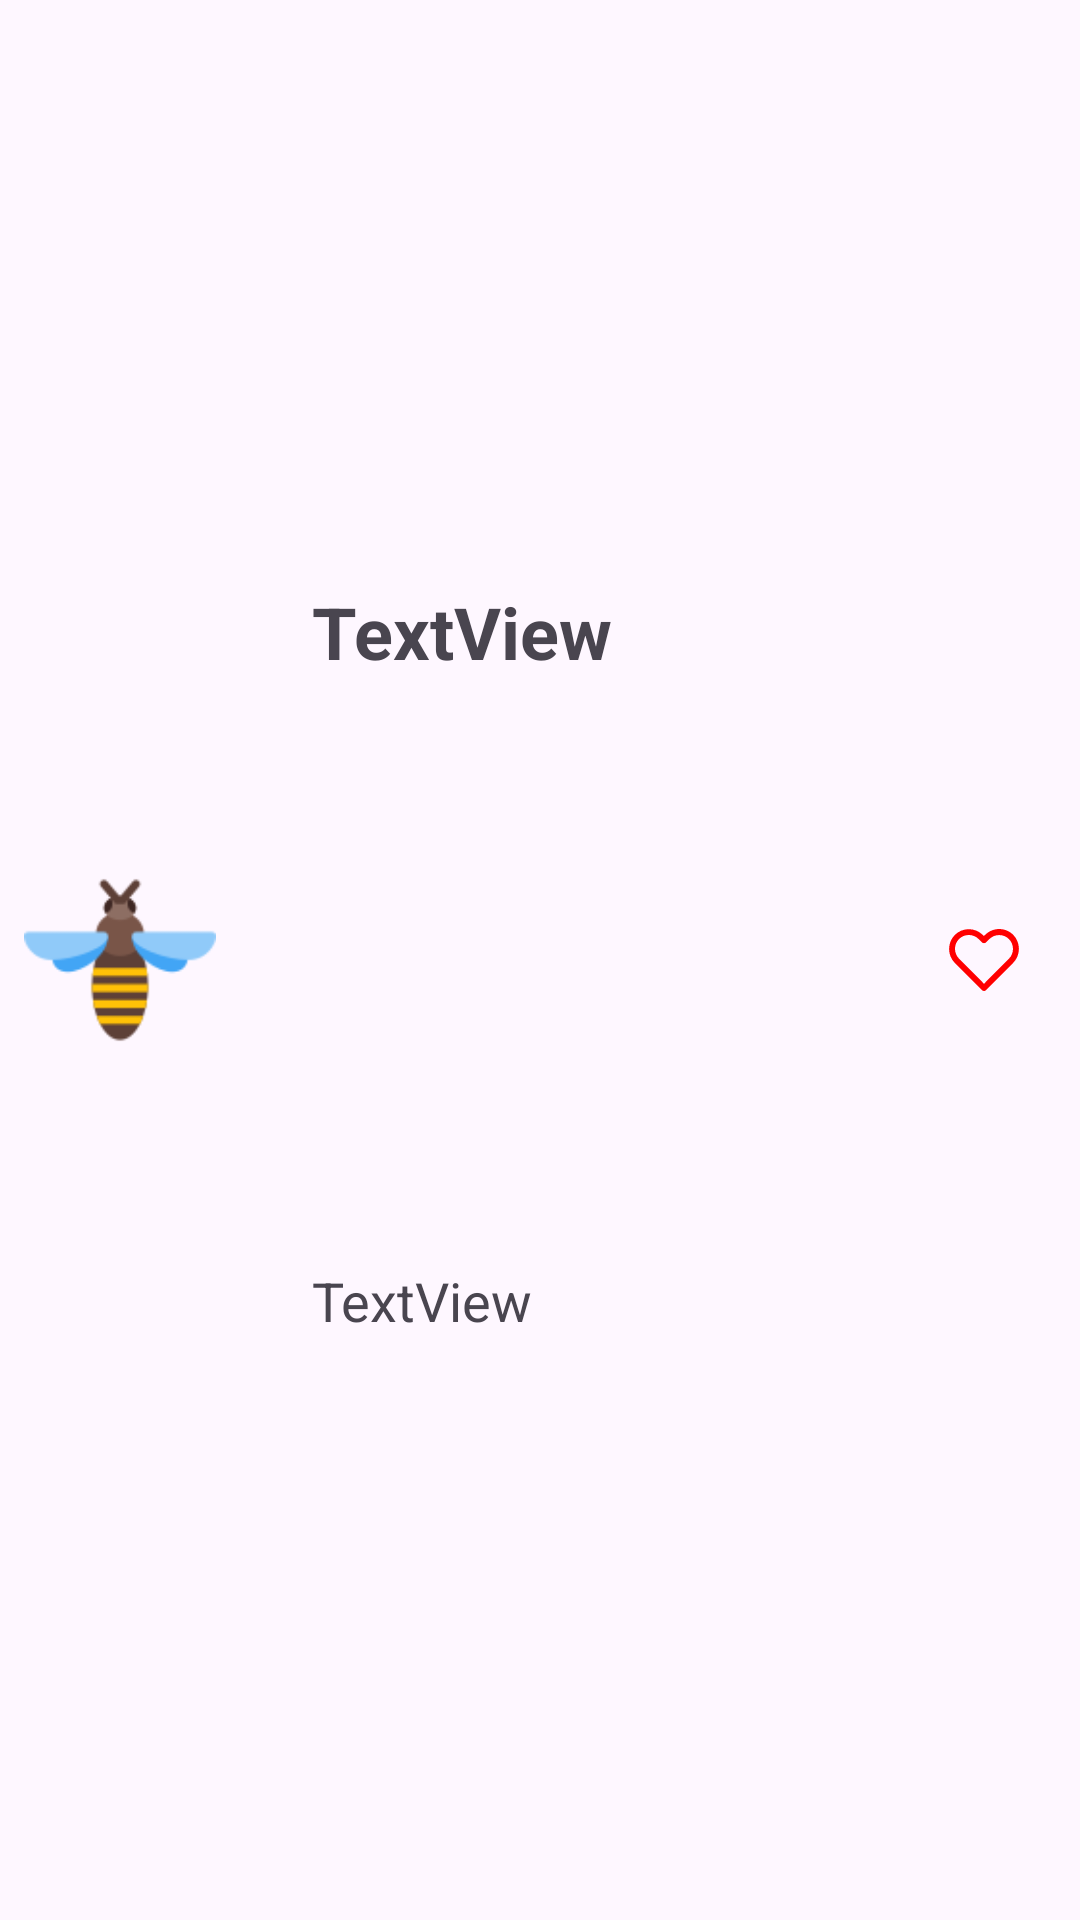

Screen size 1080x1920. Icon name, then its center in pixels as [x,y]:
bee: [120,960]
blank heart: [984,960]
